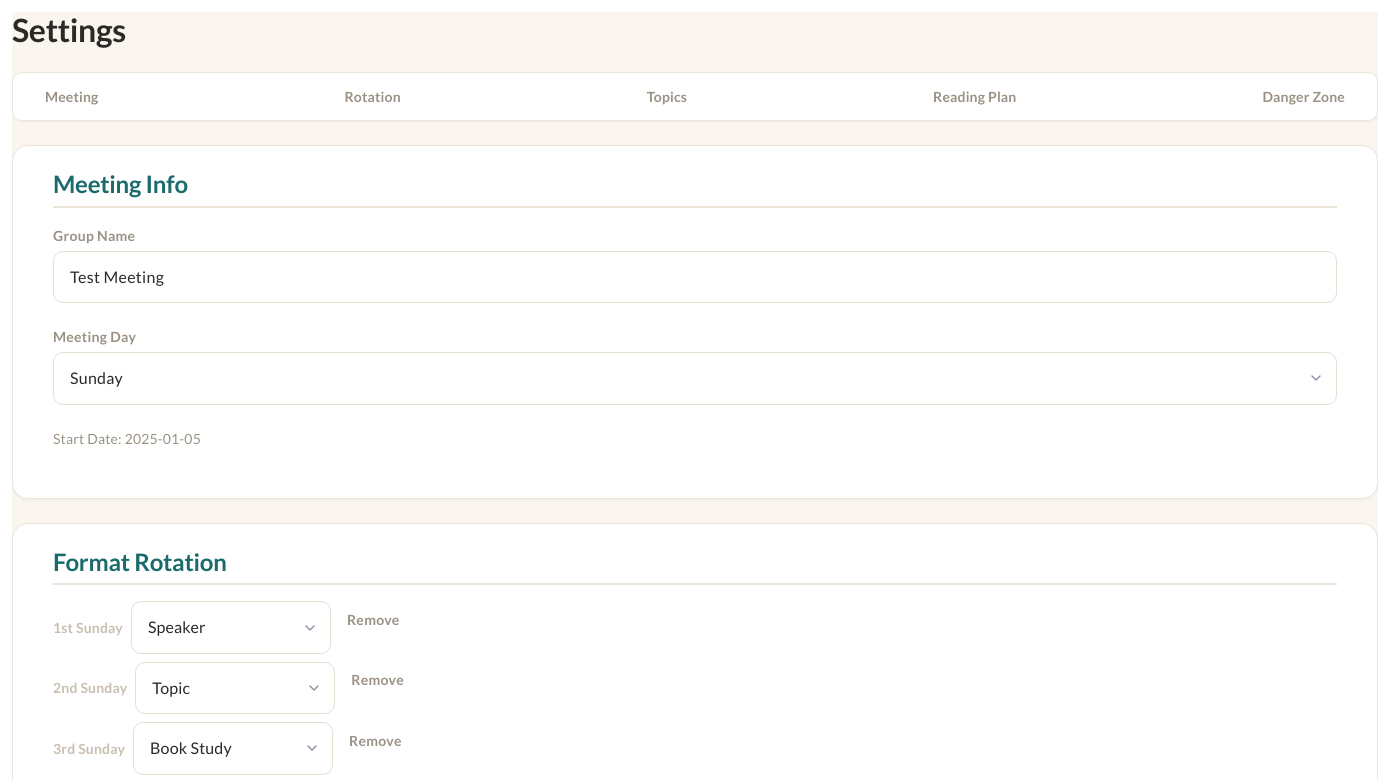
it: Settings › hides sticky bar after save
Replace the text in the field labelled "Group Name" with "New Name" at (695, 277), box x1=53 y1=251 x2=1337 y2=303
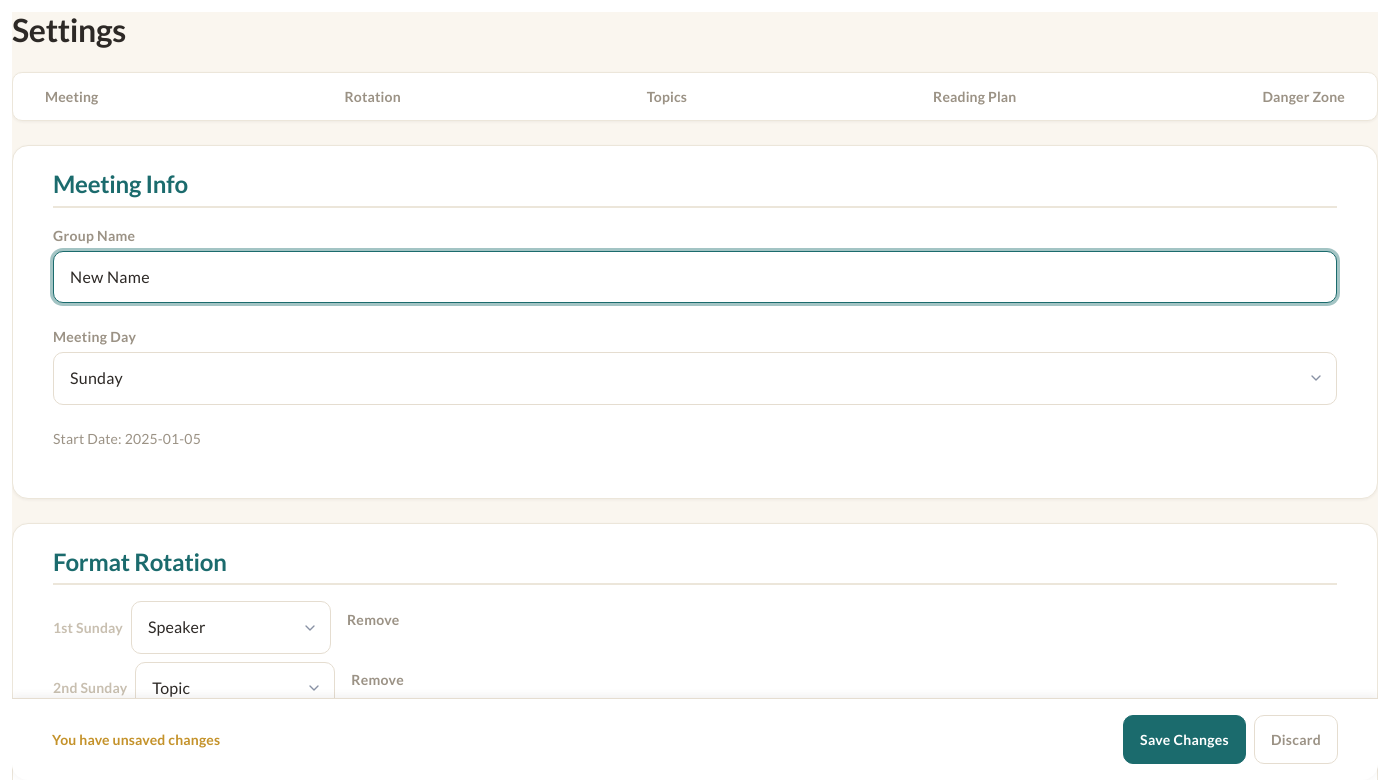
Now the text "You have unsaved changes" is shown, box x1=52 y1=728 x2=220 y2=751
Click the button "Save Changes" at (1185, 739), box x1=1123 y1=715 x2=1246 y2=764
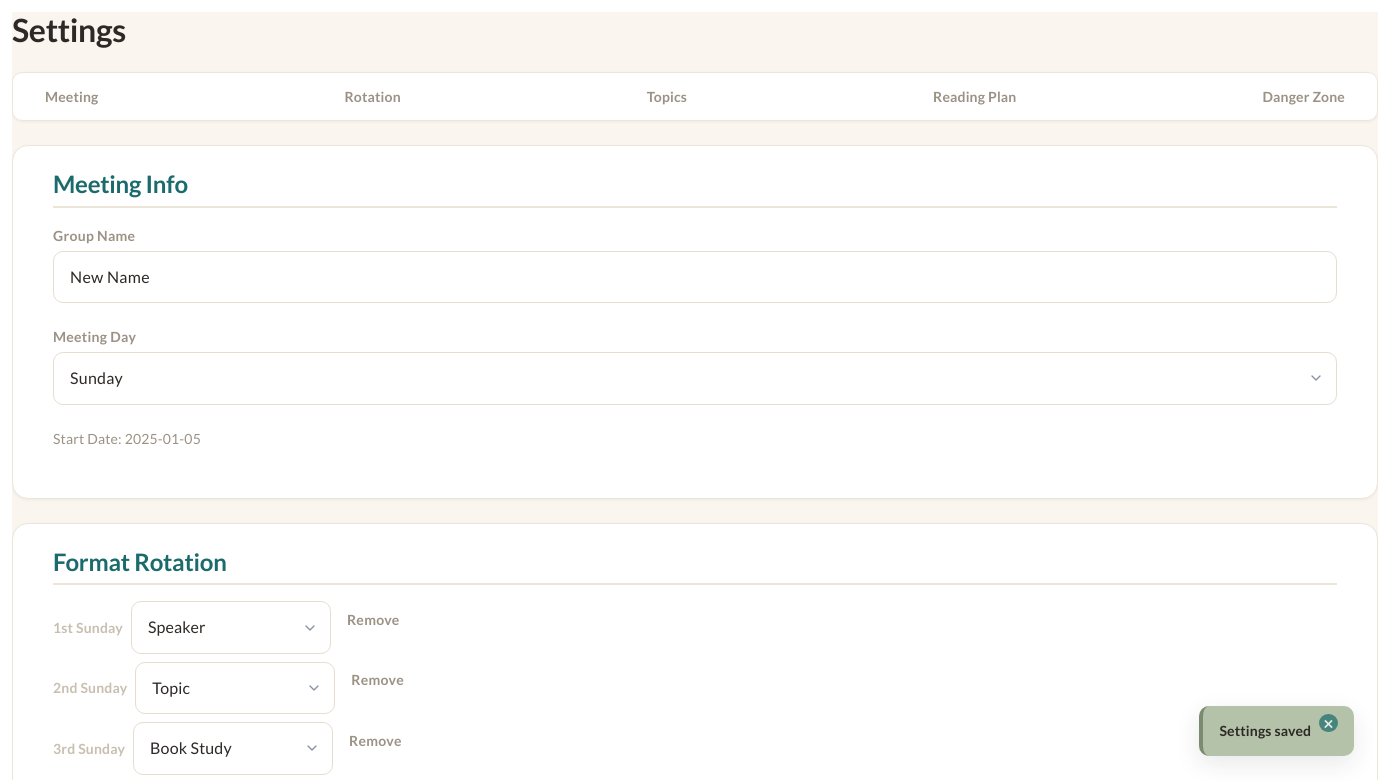
Now the text "You have unsaved changes" is gone
